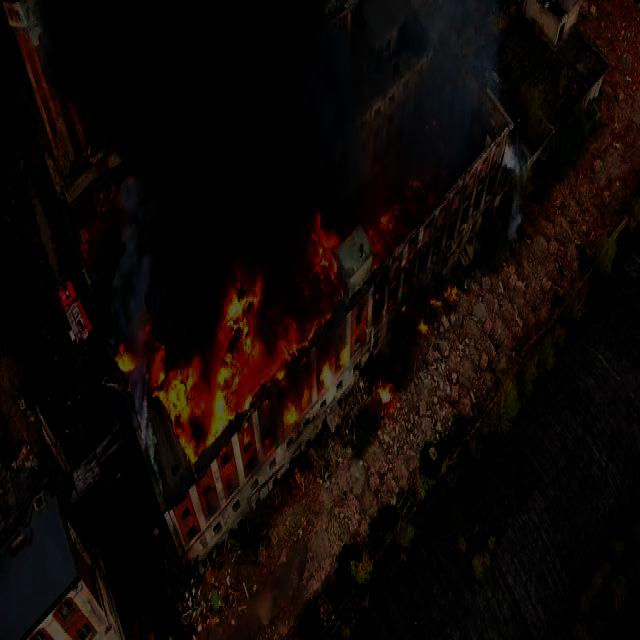fire: (207, 338, 260, 400), (222, 274, 264, 350), (153, 340, 199, 408), (258, 296, 300, 360), (310, 211, 339, 300), (178, 392, 208, 443), (392, 178, 422, 225), (370, 207, 396, 256), (205, 394, 225, 436), (118, 342, 134, 370), (446, 276, 462, 301), (376, 384, 394, 406), (417, 318, 430, 335)
smoke: (276, 89, 364, 208), (101, 5, 186, 110), (193, 102, 296, 182), (172, 5, 251, 96), (238, 8, 306, 102), (120, 248, 188, 332), (46, 5, 100, 84), (418, 95, 482, 155), (124, 177, 174, 251), (164, 160, 218, 228), (294, 1, 328, 105), (321, 29, 362, 111), (440, 50, 484, 118), (435, 3, 479, 61), (118, 114, 172, 160), (511, 142, 531, 182)
